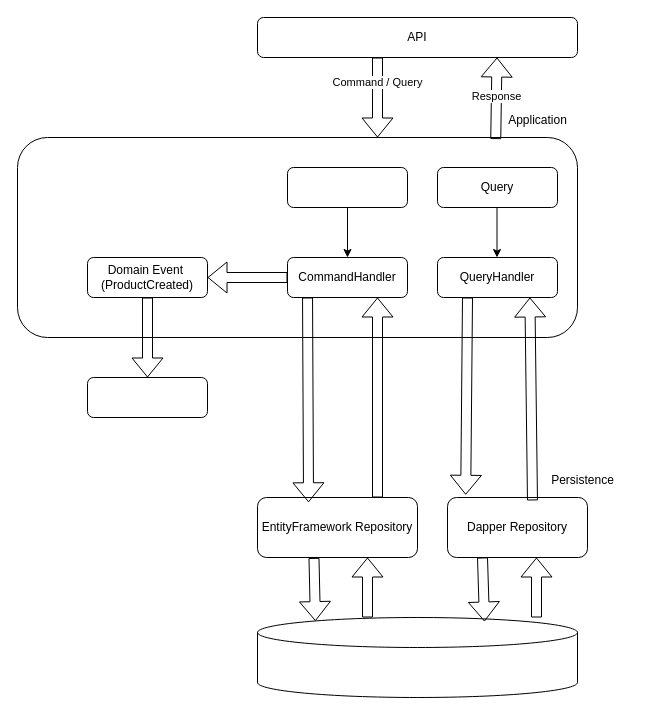
Image size: 645x715. Some labels were removed from this diagram. The box of each missing label's shape, as (x1, y1, x2, y2) in pixels:
Command: (286, 166, 408, 208)
Domain Event Handler: (86, 376, 208, 418)
SQL Server: (256, 616, 578, 698)
